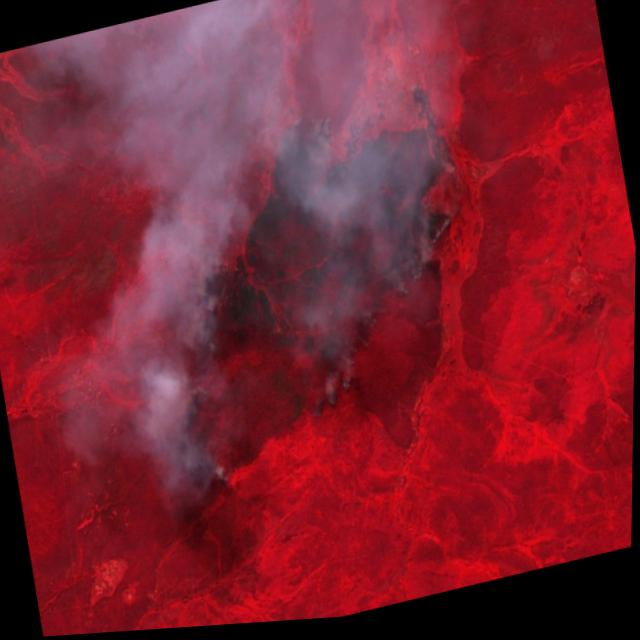fire: (120, 75, 505, 502)
